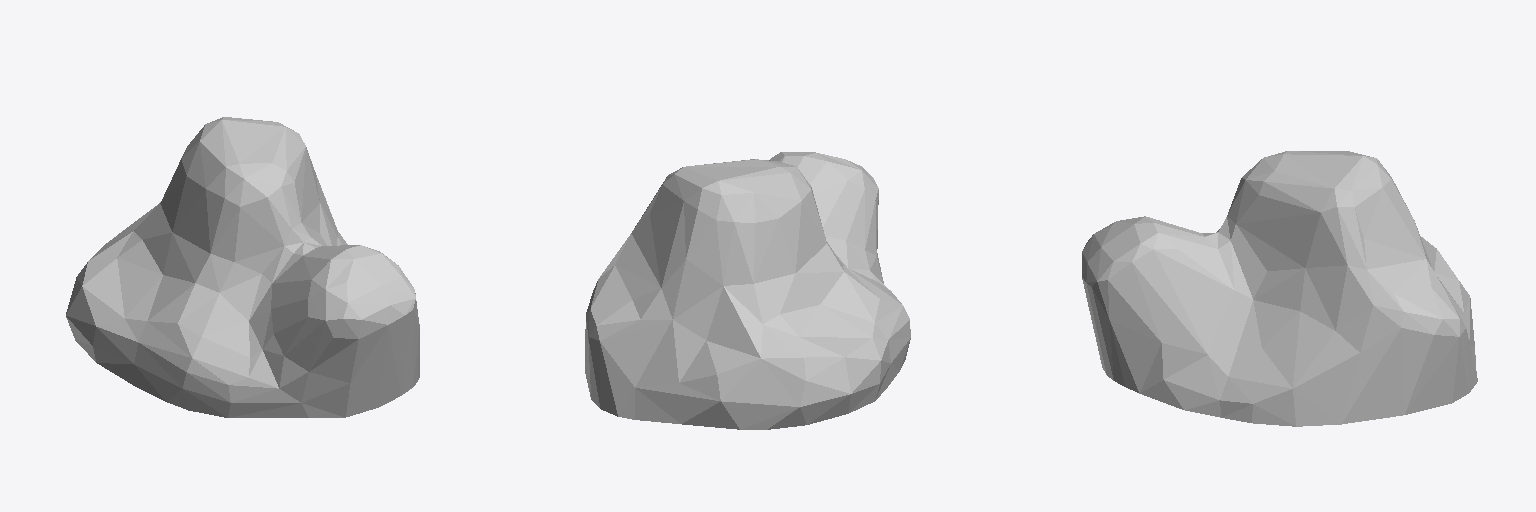
The model's file is stone61.obj.
3 renders of one model, left to right at view 1: azimuth 30°, elevation 25°; view 2: azimuth 150°, elevation 25°; view 3: azimuth 270°, elevation 25°, orthographic.
Visible parts, largest first — view 1: stone6_Group1.005; view 2: stone6_Group1.005; view 3: stone6_Group1.005.
Boxes of the visible parts, <box> form: stone6_Group1.005: <box>66,117,419,417</box>; stone6_Group1.005: <box>585,152,910,429</box>; stone6_Group1.005: <box>1082,151,1477,426</box>.
Bounding box in the file's own units: 2.06 × 1.49 × 2.57.